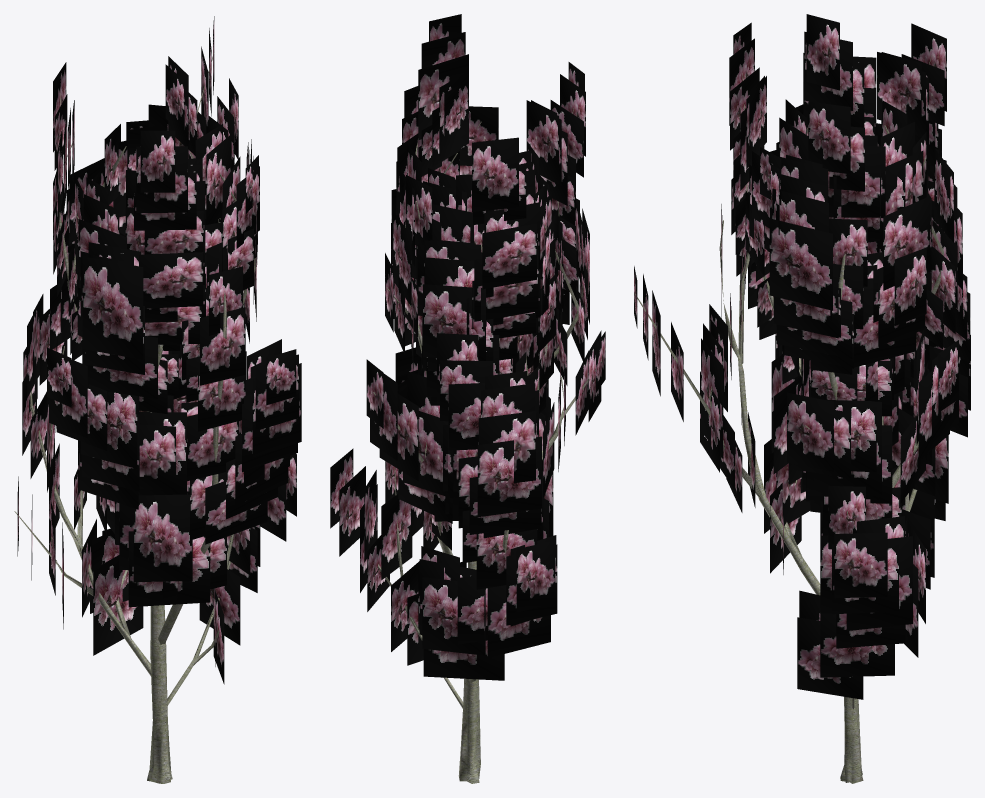
Rendered from young-airy-s31-proof.glb.
3 renders of one model, left to right at view 1: azimuth 30°, elevation 25°; view 2: azimuth 150°, elevation 25°; view 3: azimuth 270°, elevation 25°, orthographic. The views are drawn at different scales.
Visible parts, largest first — view 1: BlossomPlantFactory_young-airy-s31; view 2: BlossomPlantFactory_young-airy-s31; view 3: BlossomPlantFactory_young-airy-s31.
Part boxes in pixels (x1,y1,x2,y2): BlossomPlantFactory_young-airy-s31: (14, 16, 301, 783); BlossomPlantFactory_young-airy-s31: (330, 14, 605, 783); BlossomPlantFactory_young-airy-s31: (634, 14, 970, 783).
Bounding box in the file's own units: 2.19 × 6.2 × 2.43.
Materials: 2 (2 with a texture image).
